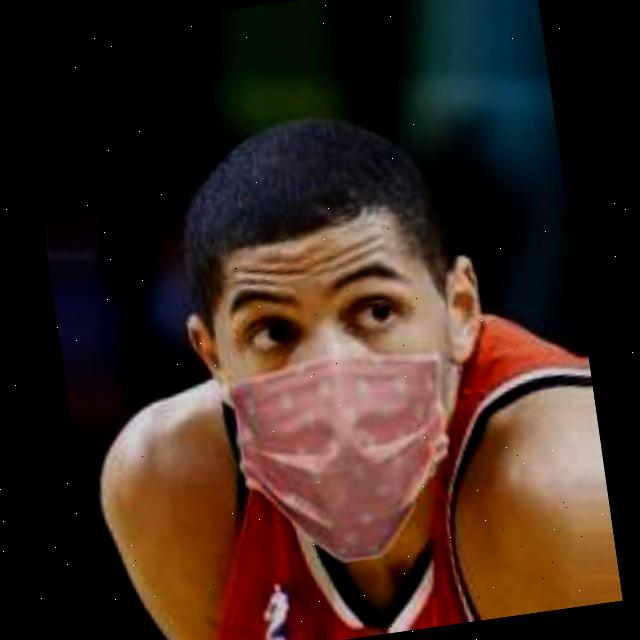suspicion: (100, 39, 580, 604)
